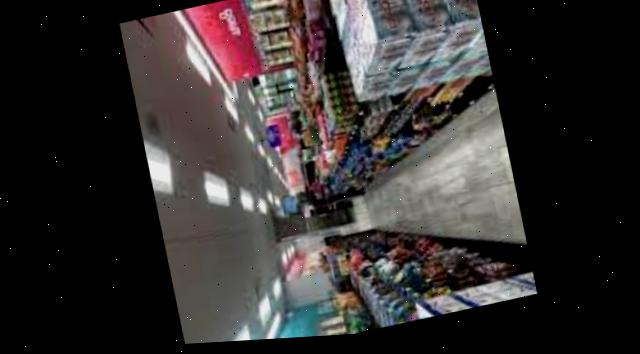background: (117, 0, 534, 349)
